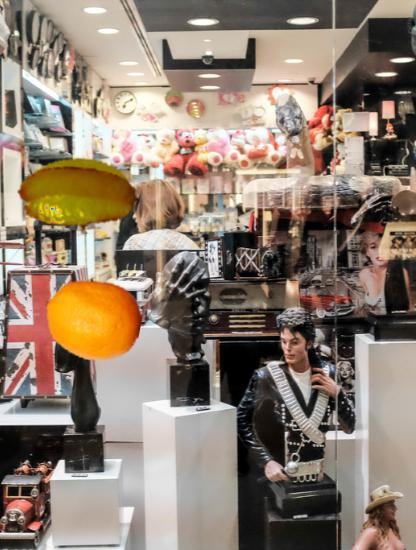Carambula: (17, 136, 139, 258)
Lemon: (42, 270, 142, 370)
